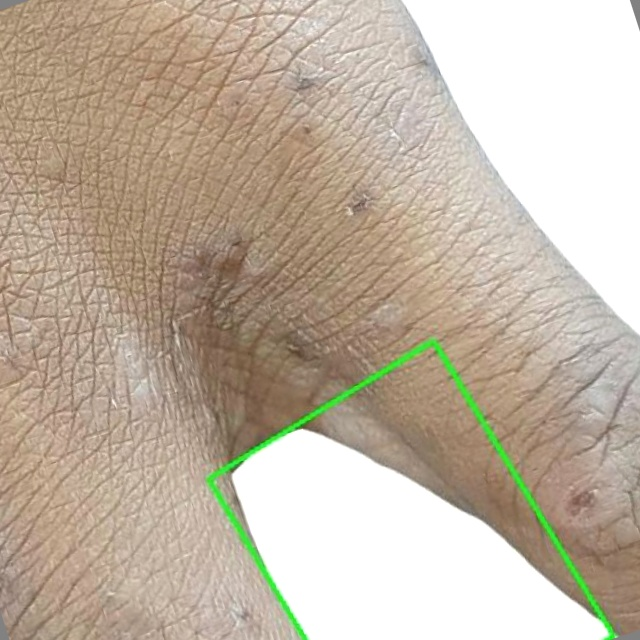Scabies: (208, 341, 614, 639)
